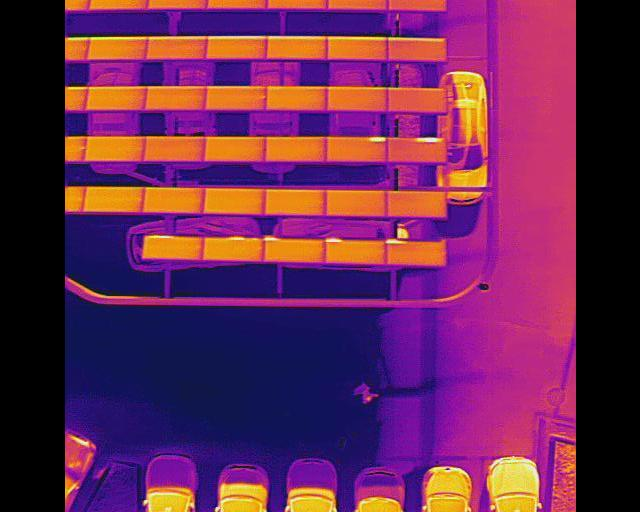No-Anomaly: (81, 187, 143, 213), (140, 188, 204, 213), (140, 136, 204, 161), (81, 136, 145, 161), (202, 188, 265, 213), (203, 137, 265, 162), (263, 137, 325, 162), (264, 189, 326, 214), (324, 190, 386, 215), (143, 86, 204, 111), (385, 191, 445, 216), (325, 87, 387, 111), (146, 36, 207, 60), (204, 86, 265, 110), (84, 86, 145, 110), (264, 86, 324, 110), (264, 36, 326, 59), (205, 37, 266, 60), (85, 37, 146, 60), (326, 38, 386, 60), (386, 89, 445, 111), (387, 38, 445, 60), (146, 0, 207, 10), (87, 0, 147, 10), (387, 0, 444, 10), (206, 0, 266, 8)
Unclassified: (323, 239, 386, 263), (202, 237, 263, 261), (262, 238, 323, 262), (325, 137, 386, 161), (142, 235, 202, 259), (385, 240, 445, 264), (387, 138, 444, 162), (264, 0, 326, 10), (326, 0, 387, 9)
